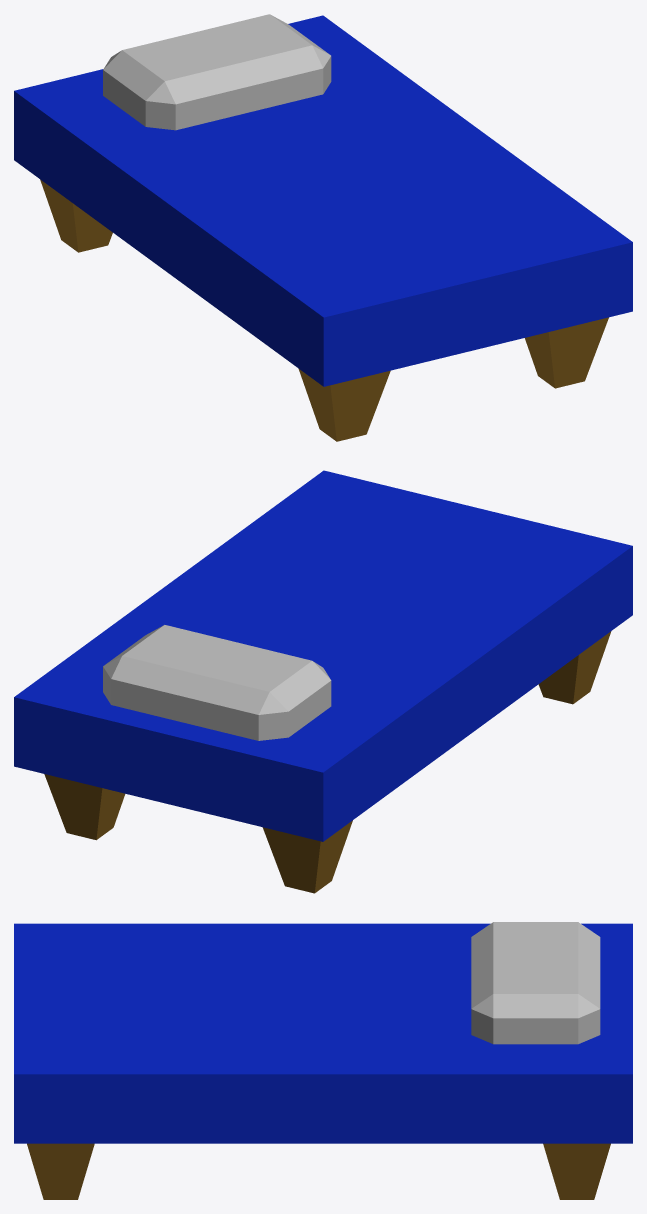
The model's file is bedMesh.fbx.
The picture shows the model from 3 angles, top to bottom: view 1: azimuth 30°, elevation 25°; view 2: azimuth 150°, elevation 25°; view 3: azimuth 270°, elevation 25°; orthographic projection.
Visible parts, largest first — view 1: pCube7; view 2: pCube7; view 3: pCube7.
Boxes of the visible parts, x1=… form: pCube7: x1=14, y1=14, x2=632, y2=441; pCube7: x1=14, y1=470, x2=632, y2=893; pCube7: x1=14, y1=922, x2=632, y2=1199.
Size of the model in its own units: 1.93 by 1.09 by 3.34.
